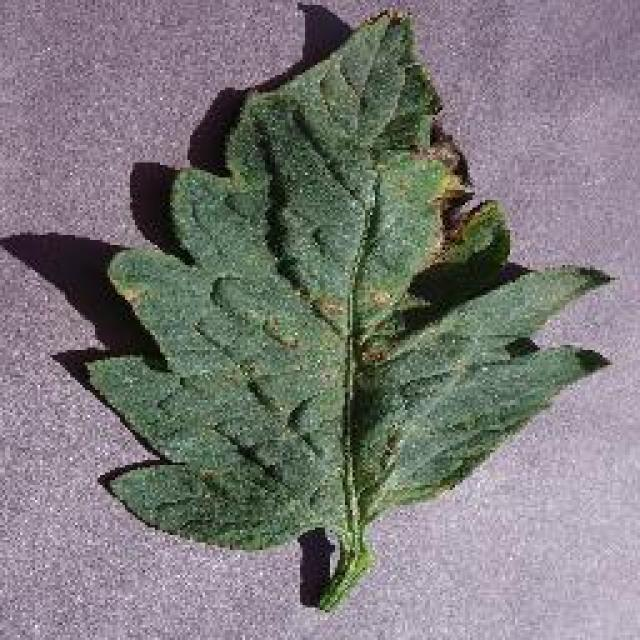Tomato Septoria spot leaf: (77, 11, 605, 549)
